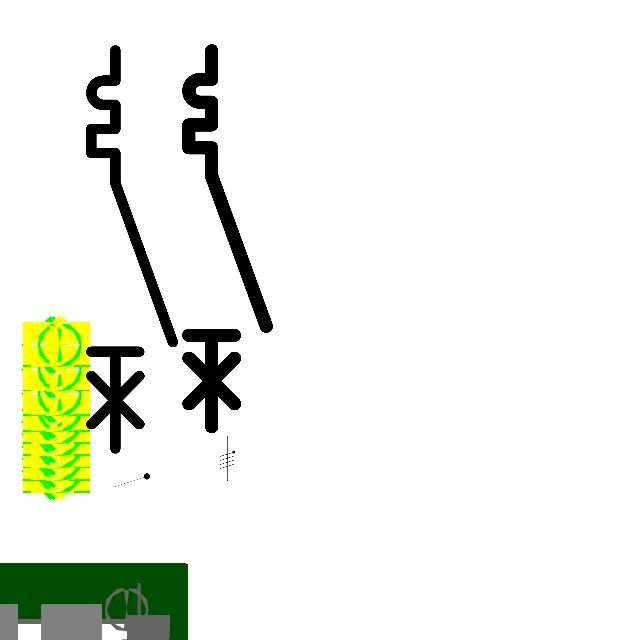interruptor_termomagnetico: (81, 40, 183, 459), (179, 41, 276, 436)
